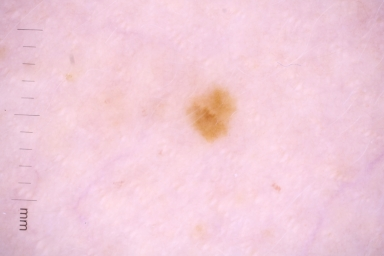melanoma: (190, 83, 238, 141)
